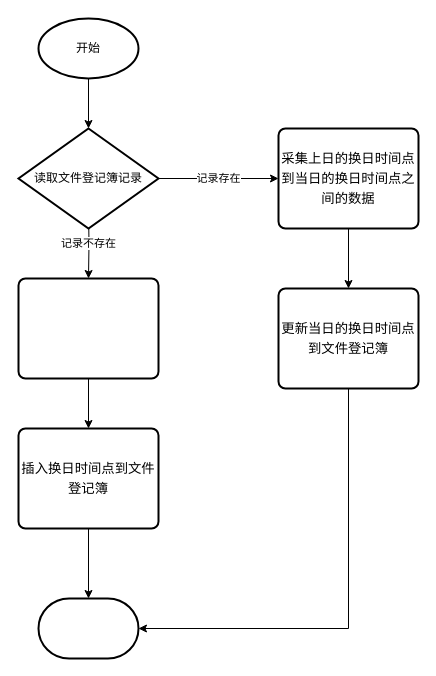
The diagram is 436 pixels wide and 676 high, and some of its shapes have lost their labels. The shapes that lost their labels are listed below. From the top down, each one's centre as x and y in pixels, then its label:
At (88,328): "采集小于换日时间点的所有数据".
At (88,628): "结束".
